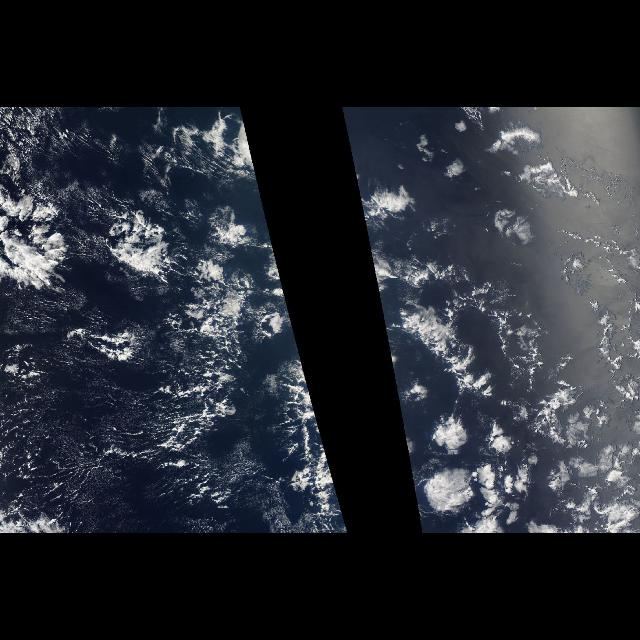Flower: (380, 324, 640, 534)
Gravel: (12, 290, 256, 522)
Sugar: (1, 364, 262, 532)
